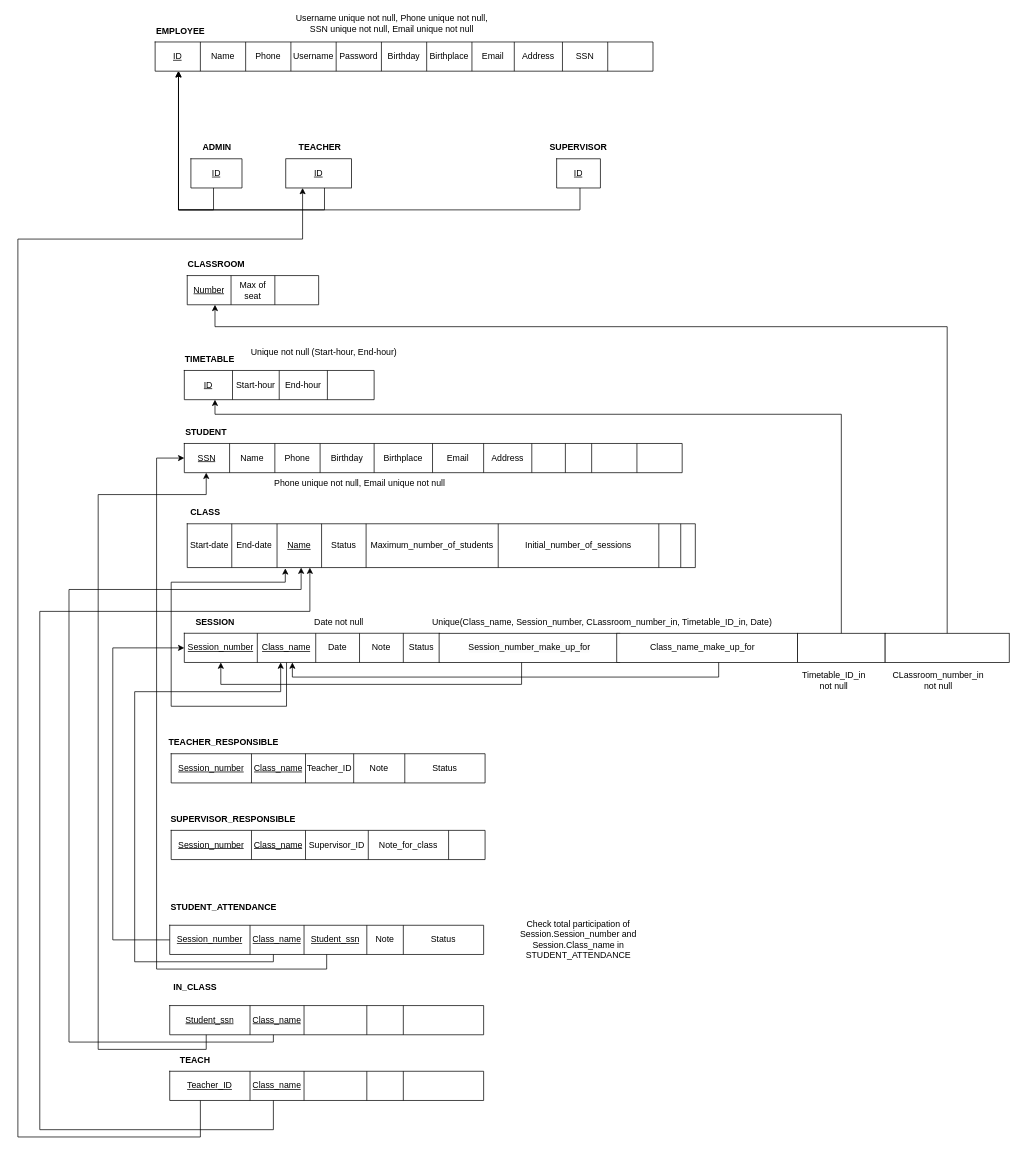
Some shapes in this 1022 by 1156 pixel diagram are drawn without their labels. Here are the shapes that lost their labels. From the top down, the centre of each, then its label:
the point at 841,647: Timetable_ID_in
the point at 946,647: CLassroom_number_in
